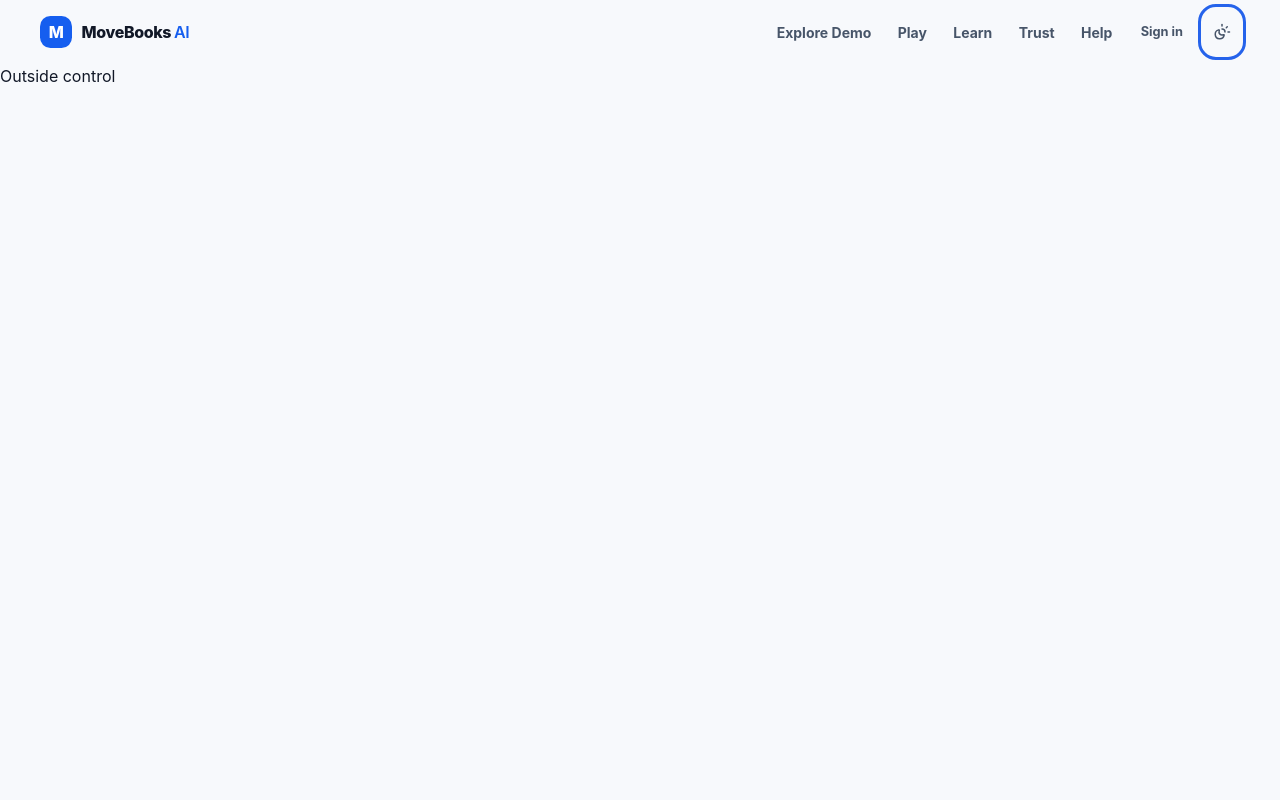
Test case: global account and settings shell › offers System, Light and Dark from the signed-out appearance icon and nothing about motion
Click the button named "Change appearance". click: coordinates (1222, 32)
box: [1204,10,1240,54]
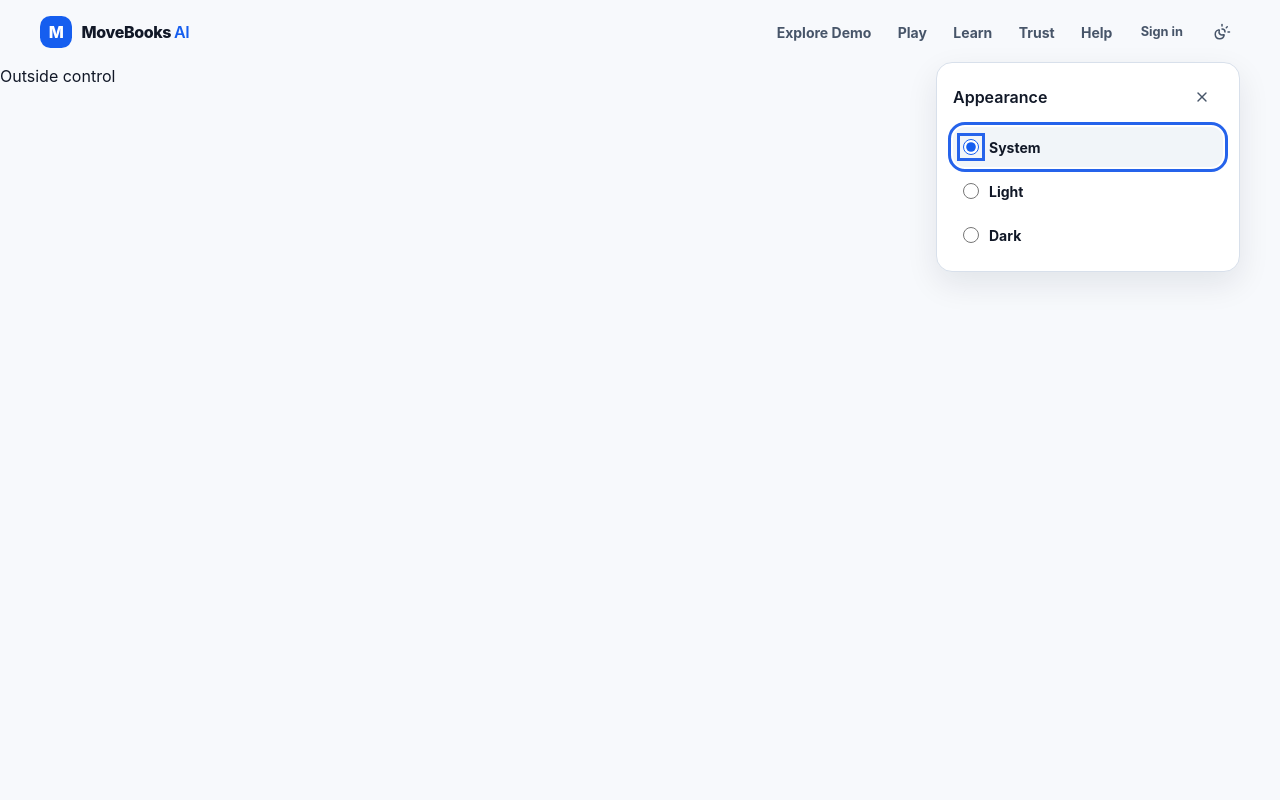
Expected: the radio button labelled "System" is checked, [963,139,979,155]
Click the radio button labelled "Dark". click: coordinates (971, 235)
box: [963,227,979,243]
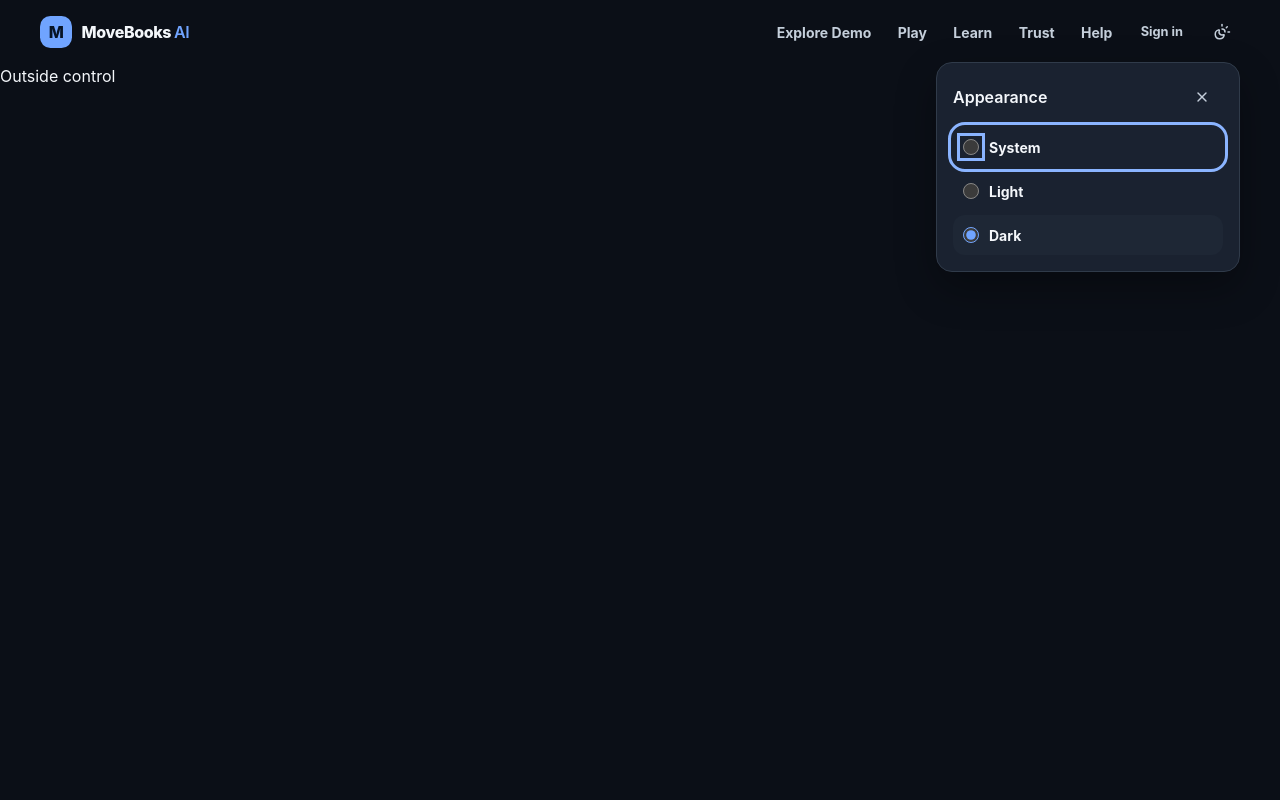
Expected: the radio button labelled "Dark" is checked, [963,227,979,243]
Click the radio button labelled "Light". click: coordinates (971, 191)
box: [963,183,979,199]
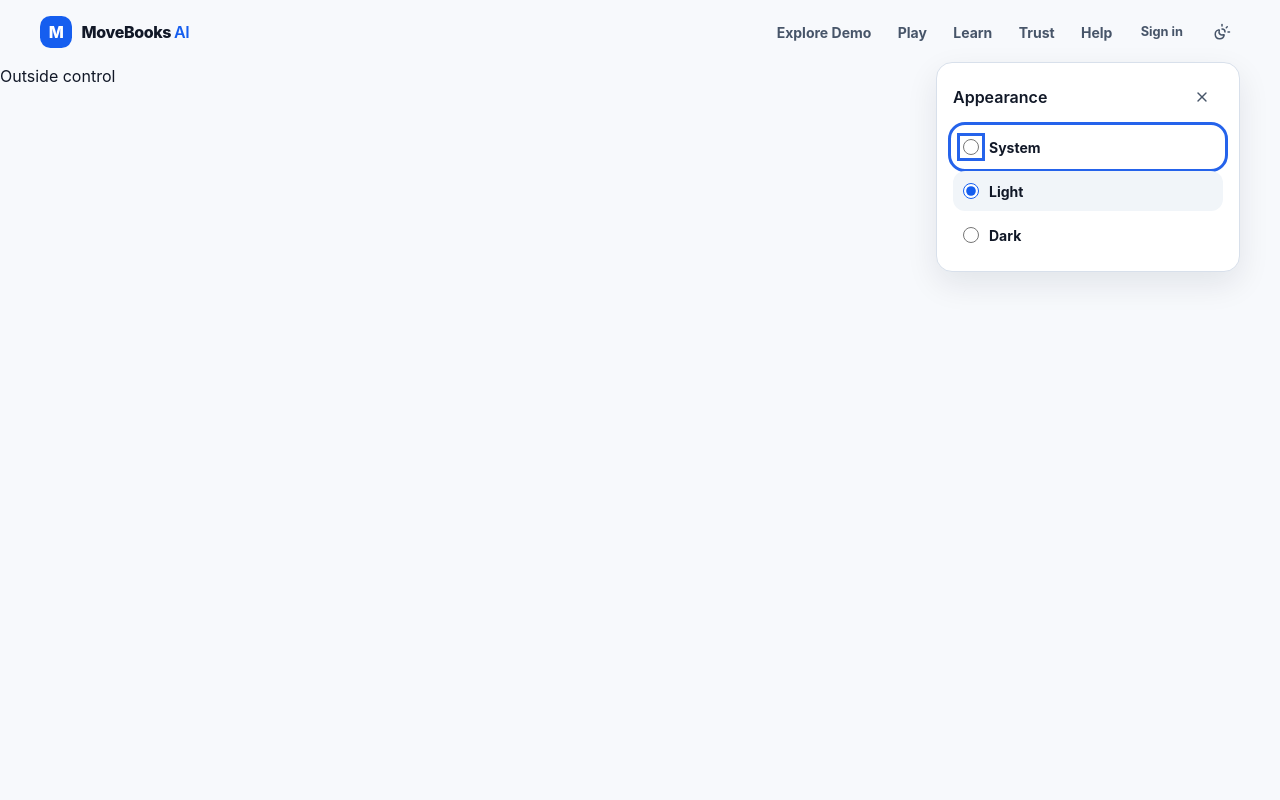
Expected: the radio button labelled "Light" is checked, [963,183,979,199]
Click the radio button labelled "System". click: coordinates (971, 147)
box: [963,139,979,155]
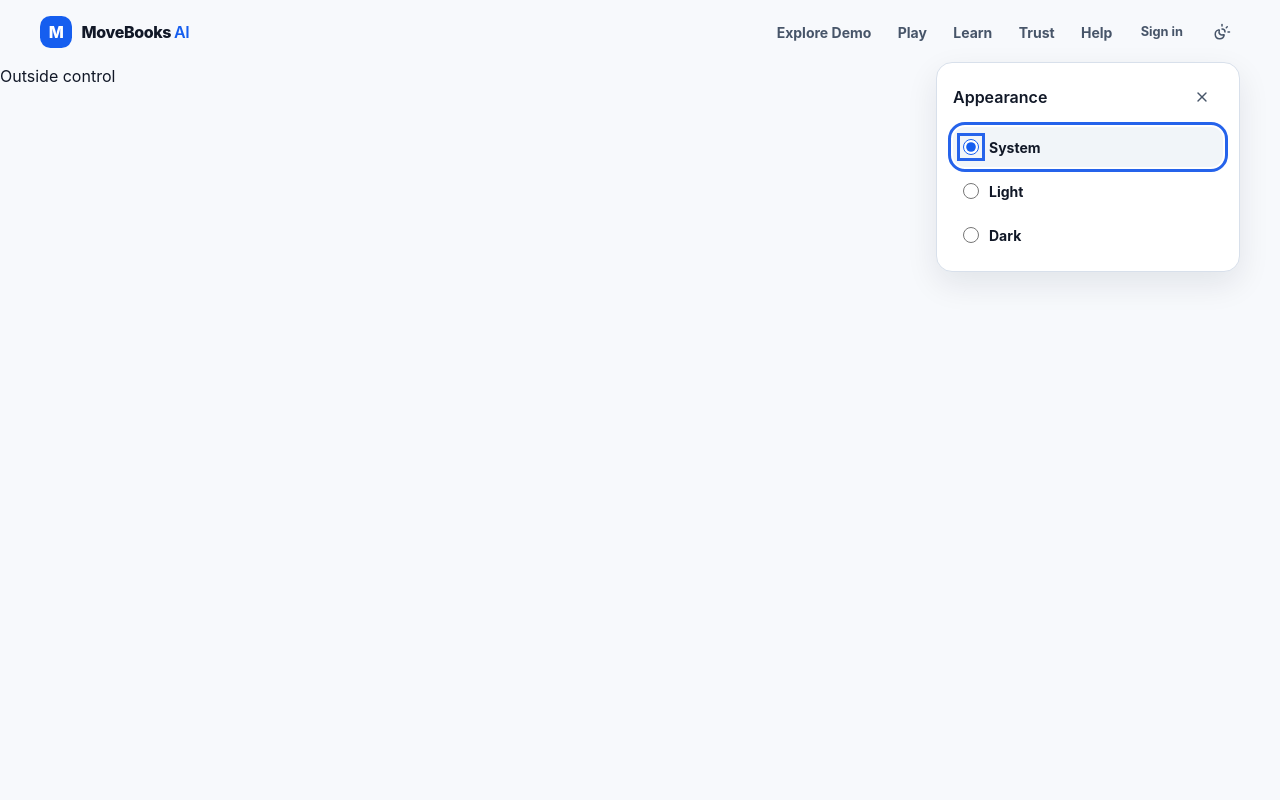
Expected: the radio button labelled "System" is checked, [963,139,979,155]
Click the button named "Close appearance". click: coordinates (1202, 97)
box: [1181,79,1223,115]
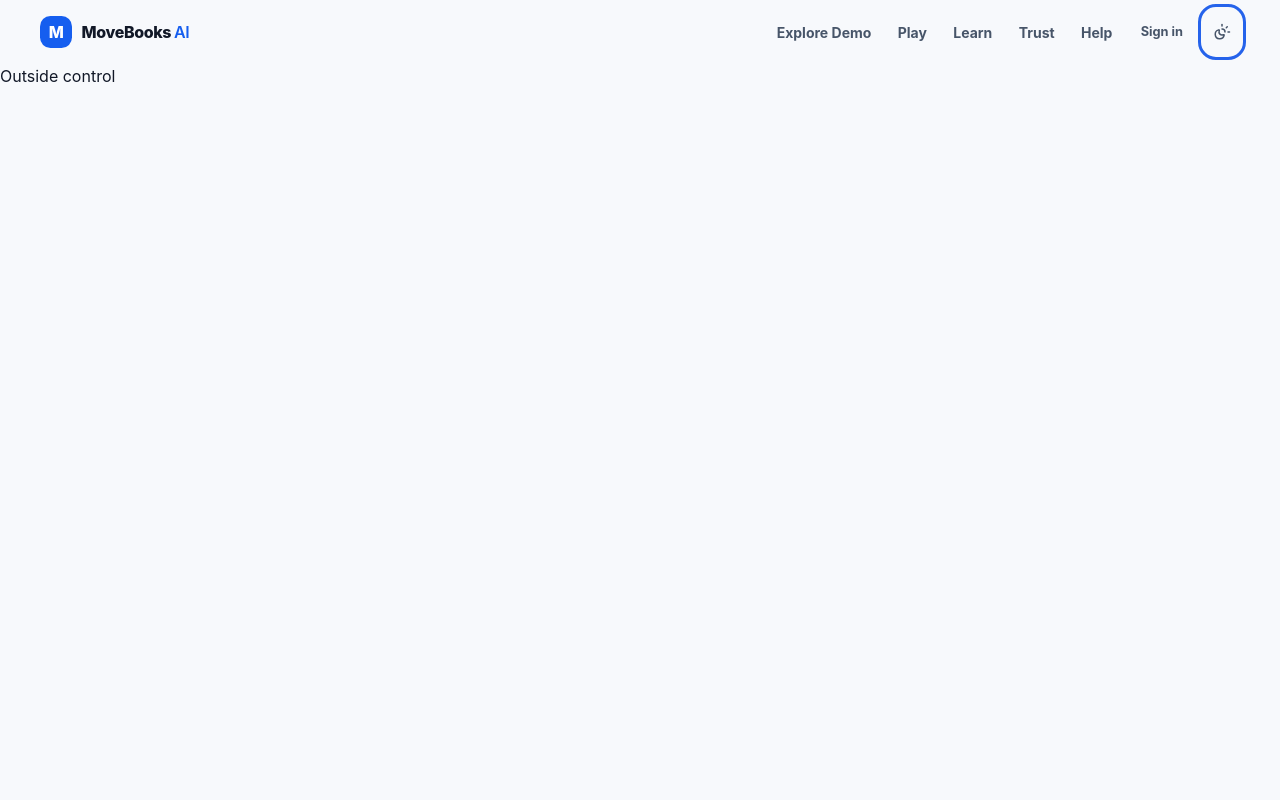
Expected: the dialog is gone
